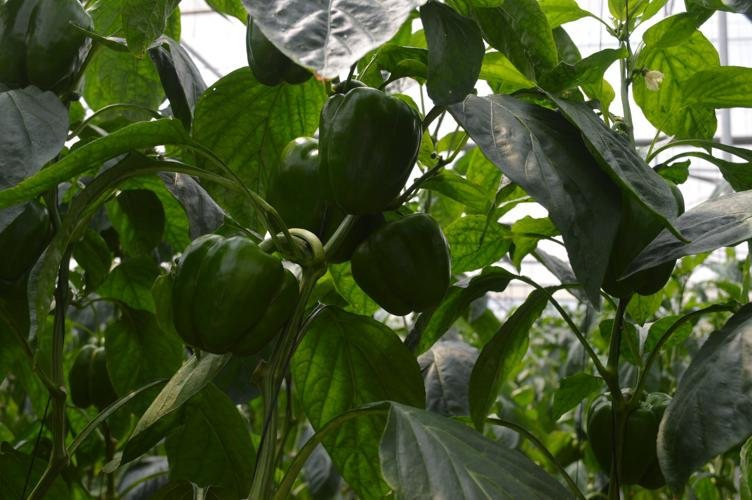BellPepper: (170, 237, 299, 352), (317, 85, 423, 206), (265, 137, 356, 259), (348, 210, 448, 312), (584, 388, 678, 488), (604, 182, 685, 297), (1, 4, 91, 94), (240, 22, 313, 90), (63, 340, 124, 410)
